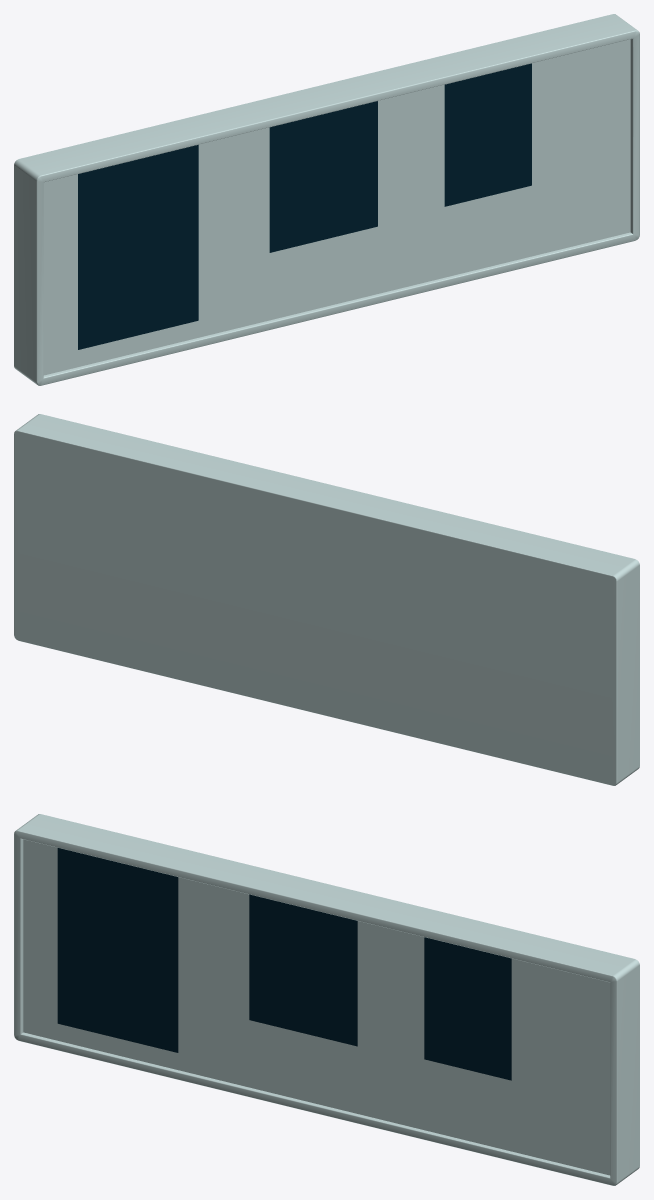
The model's file is negatoscope.fbx.
3 views of the same model, one above another, from view 1: azimuth 30°, elevation 25°; view 2: azimuth 150°, elevation 25°; view 3: azimuth 330°, elevation 25° (orthographic).
Visible parts, largest first — view 1: negatoscope, x_ray_image_1, x_ray_image_2, x_ray_image_3; view 2: negatoscope; view 3: negatoscope, x_ray_image_1, x_ray_image_2, x_ray_image_3.
Boxes of the visible parts, box(x1,y1,x2,y2) form: negatoscope: box(14, 14, 639, 385); x_ray_image_1: box(78, 145, 198, 349); x_ray_image_2: box(269, 101, 377, 252); x_ray_image_3: box(444, 63, 531, 206); negatoscope: box(14, 414, 639, 785); negatoscope: box(14, 814, 639, 1185); x_ray_image_1: box(57, 848, 178, 1052); x_ray_image_2: box(249, 894, 357, 1046); x_ray_image_3: box(424, 937, 511, 1080).
Bounding box in the file's own units: 150 × 50 × 10.
